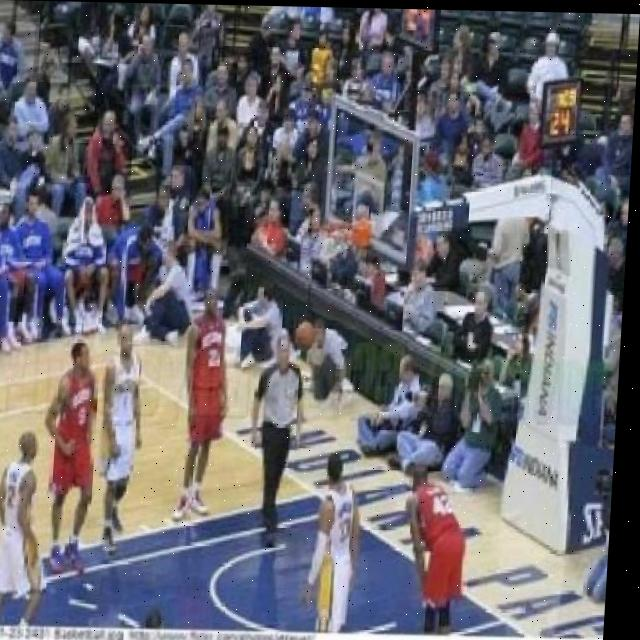basketball: (293, 317, 318, 352)
hoop: (319, 220, 360, 258)
